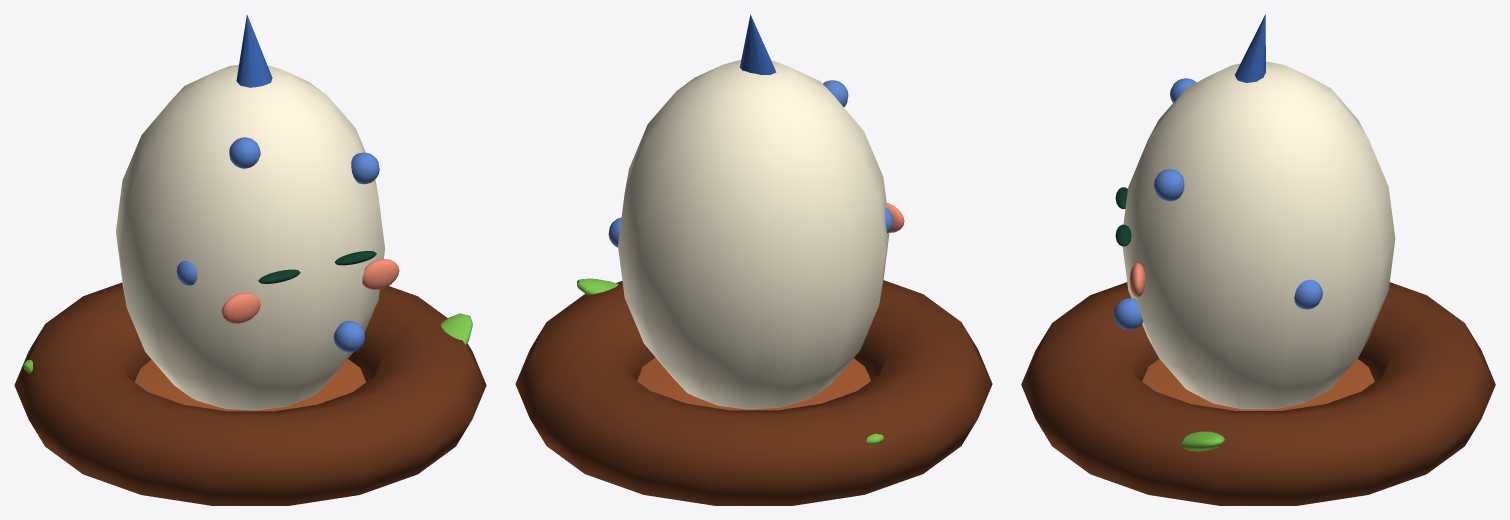
File: agila-egg.glb
The picture shows the model from 3 angles, left to right: view 1: azimuth 30°, elevation 25°; view 2: azimuth 150°, elevation 25°; view 3: azimuth 270°, elevation 25°; orthographic projection.
Visible parts, largest first — view 1: rock, object 1, object 2, object 3; view 2: rock, object 1, object 2; view 3: rock, object 1, object 2, object 3.
Part boxes in pixels (bbox=[...]): rock: bbox=[116, 14, 399, 410]; object 1: bbox=[14, 282, 486, 505]; object 2: bbox=[135, 359, 365, 411]; object 3: bbox=[441, 313, 472, 345]; rock: bbox=[608, 14, 904, 409]; object 1: bbox=[515, 280, 992, 505]; object 2: bbox=[637, 357, 870, 410]; rock: bbox=[1113, 14, 1395, 409]; object 1: bbox=[1021, 282, 1495, 505]; object 2: bbox=[1142, 359, 1374, 410]; object 3: bbox=[1181, 431, 1225, 451].
Bounding box in the file's own units: 1.16 × 1.13 × 1.18.
